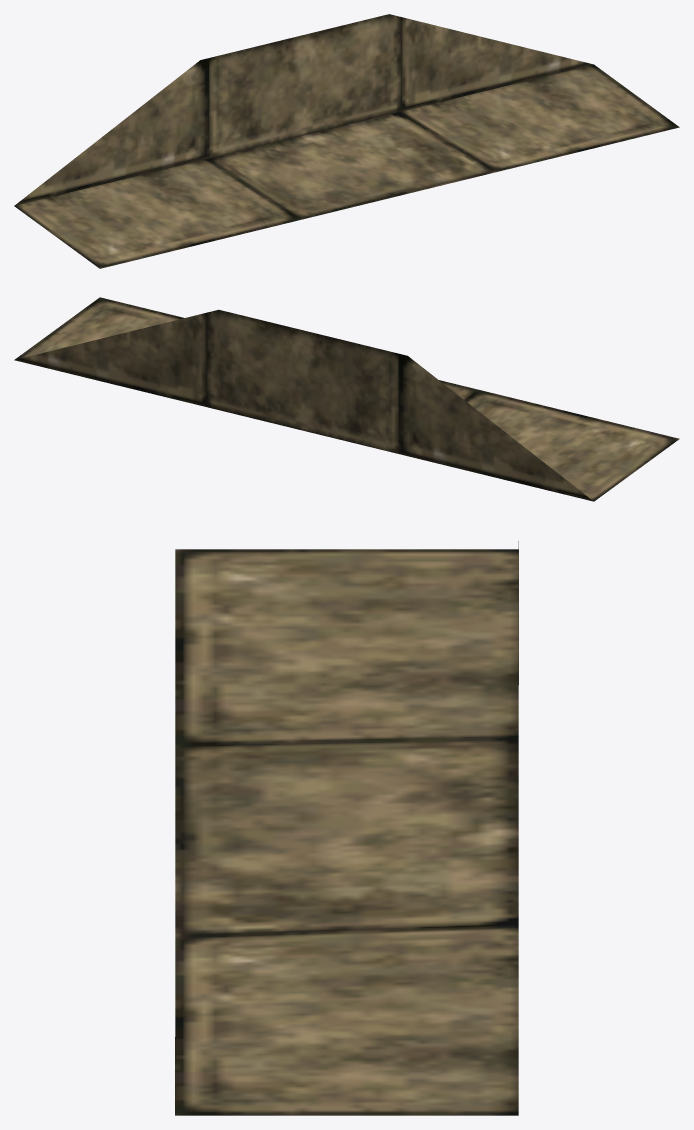
Rendered from OVERHILL_A_01_OBJECT375.fbx.
The picture shows the model from 3 angles, top to bottom: view 1: azimuth 30°, elevation 25°; view 2: azimuth 150°, elevation 25°; view 3: azimuth 270°, elevation 25°; orthographic projection. The views are drawn at different scales.
Parts seen in each view (by area): view 1: OVERHILL_A_01_OBJECT375; view 2: OVERHILL_A_01_OBJECT375; view 3: OVERHILL_A_01_OBJECT375.
Boxes of the visible parts, <box> form: OVERHILL_A_01_OBJECT375: <box>14,14,679,268</box>; OVERHILL_A_01_OBJECT375: <box>14,297,679,501</box>; OVERHILL_A_01_OBJECT375: <box>175,541,518,1115</box>.
Size of the model in its own units: 32635 by 5399 by 8373.
Materials: 1 (1 with a texture image).
